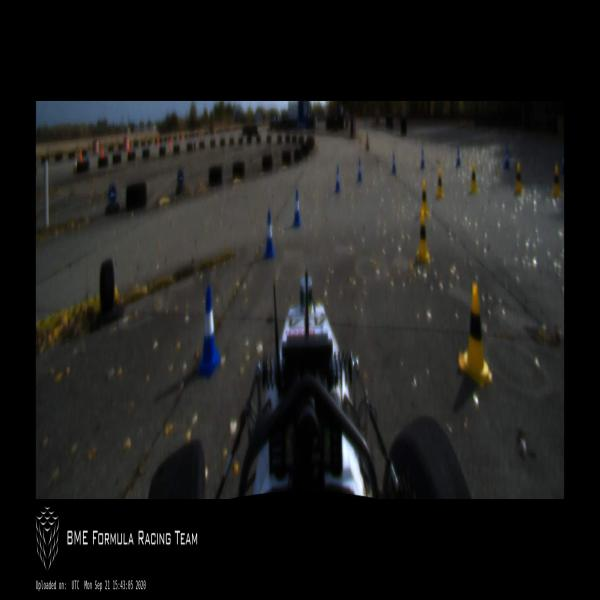blue_cone: (195, 286, 222, 380), (264, 210, 275, 256), (292, 190, 301, 225), (334, 166, 341, 192), (503, 148, 510, 169), (356, 158, 362, 182), (456, 145, 461, 167), (420, 148, 425, 168), (392, 152, 396, 174)
yellow_cone: (461, 281, 490, 388), (417, 214, 430, 262), (550, 163, 562, 200), (420, 180, 429, 218), (514, 162, 523, 195), (436, 168, 444, 198), (470, 164, 478, 194)
